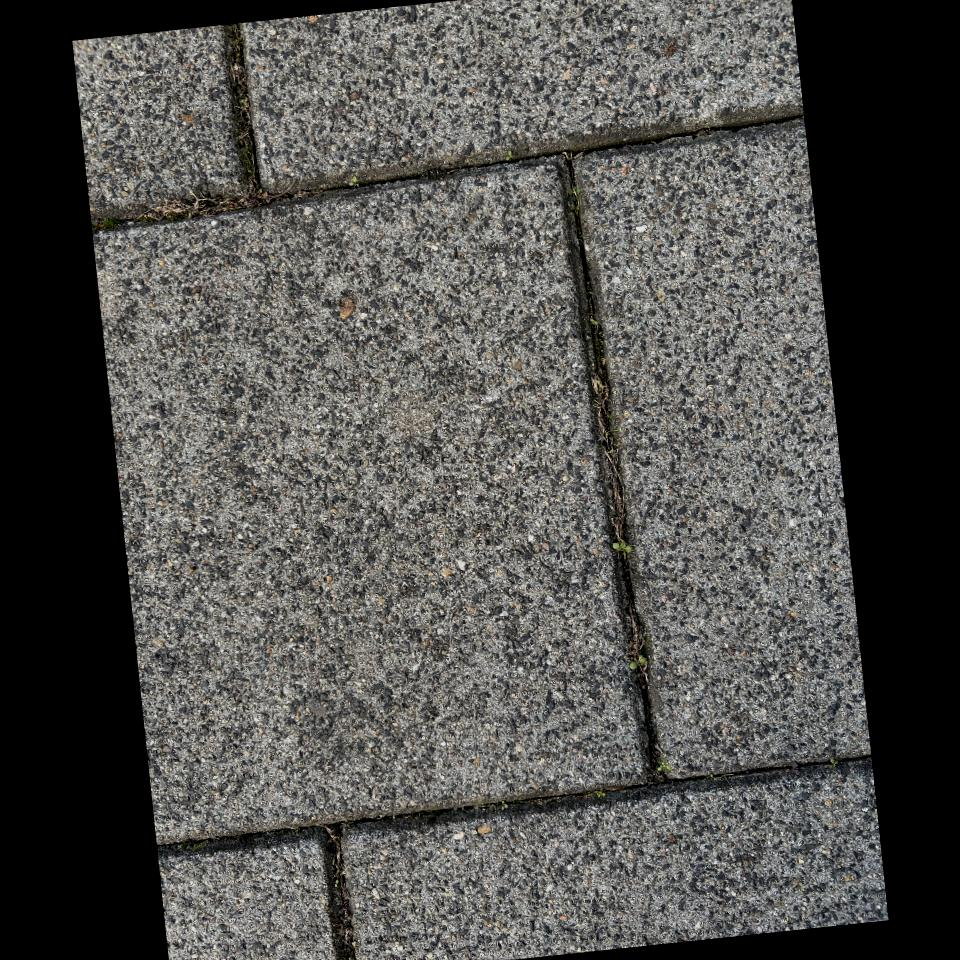weed: (629, 653, 647, 673), (612, 539, 632, 555), (656, 755, 671, 773), (568, 186, 580, 201), (592, 789, 605, 799), (828, 757, 838, 769), (704, 773, 719, 780), (500, 801, 508, 810), (506, 149, 512, 160), (350, 175, 357, 184), (590, 318, 598, 324), (240, 98, 247, 104), (258, 188, 262, 192), (725, 777, 727, 781), (723, 774, 725, 777)
